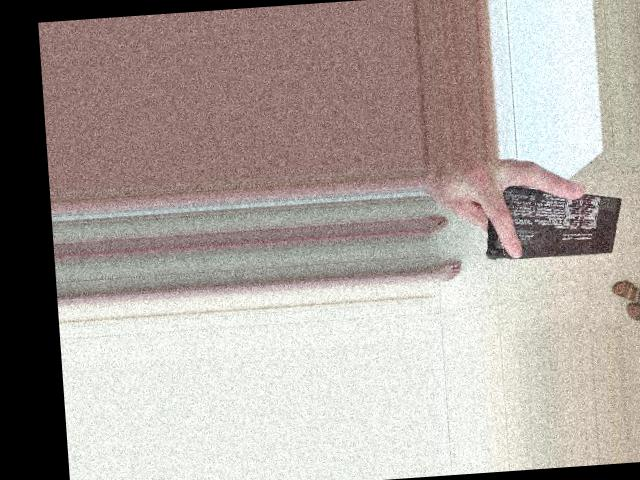chocolate: (471, 173, 635, 267)
